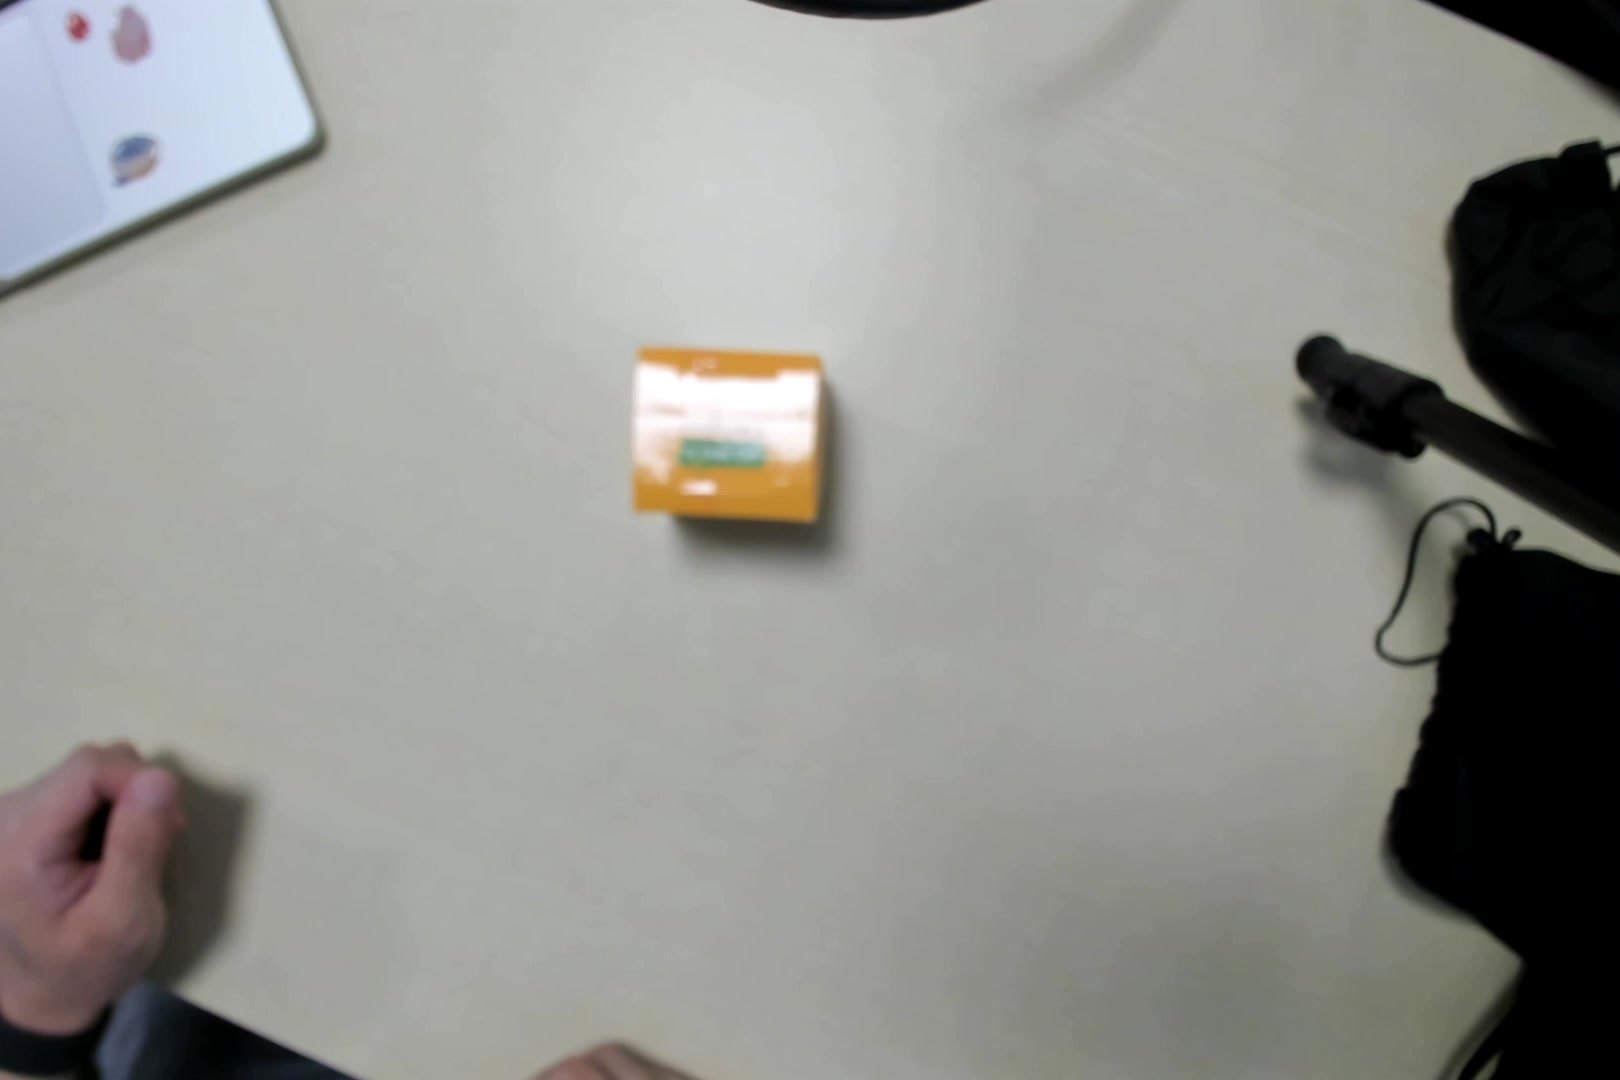OtherHotBeverages(Powder)_0-99g_Halal_NonHealthy: (626, 345, 830, 530)
